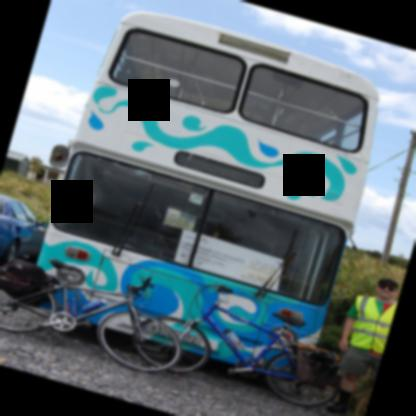backpack: (295, 342, 341, 391), (0, 258, 48, 294)
